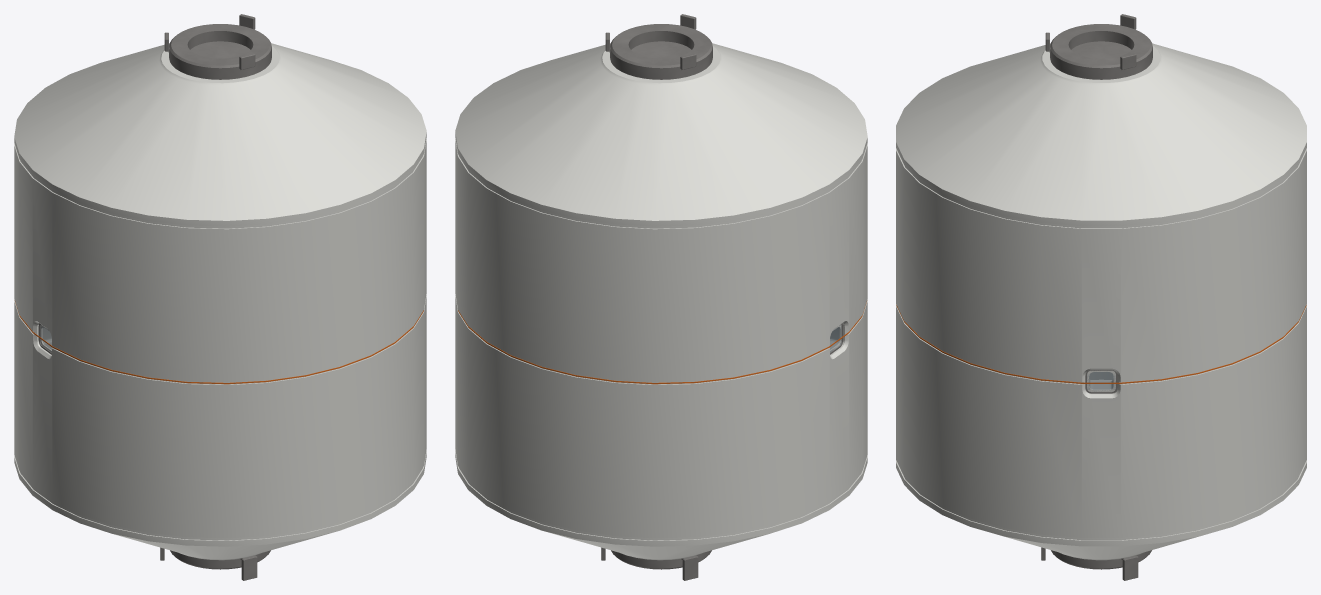
Rendered from ax_station_08_inflatable_hab_deployed.glb.
3 views of the same model, side by side, from view 1: azimuth 30°, elevation 25°; view 2: azimuth 150°, elevation 25°; view 3: azimuth 270°, elevation 25° (orthographic).
Visible parts, largest first — view 1: inflatable_shell, port_top, orange_stripes, hatch_door_2, port_bottom, port_top_petals; view 2: inflatable_shell, port_top, orange_stripes, hatch_door_2, port_bottom, port_top_petals; view 3: inflatable_shell, port_top, orange_stripes, hatch_door_2, port_bottom, port_top_petals.
Part boxes in pixels (left/top/right/bottom): inflatable_shell: left=14, top=43, right=426, bottom=560; port_top: left=169, top=24, right=271, bottom=79; orange_stripes: left=14, top=300, right=423, bottom=384; hatch_door_2: left=190, top=41, right=250, bottom=58; port_bottom: left=170, top=550, right=270, bottom=569; port_top_petals: left=164, top=14, right=255, bottom=69; inflatable_shell: left=455, top=43, right=867, bottom=560; port_top: left=610, top=24, right=712, bottom=79; orange_stripes: left=458, top=300, right=867, bottom=384; hatch_door_2: left=631, top=41, right=691, bottom=58; port_bottom: left=611, top=550, right=711, bottom=569; port_top_petals: left=605, top=14, right=696, bottom=69; inflatable_shell: left=896, top=43, right=1306, bottom=560; port_top: left=1050, top=24, right=1152, bottom=79; orange_stripes: left=896, top=305, right=1306, bottom=383; hatch_door_2: left=1071, top=41, right=1131, bottom=58; port_bottom: left=1051, top=550, right=1151, bottom=569; port_top_petals: left=1045, top=14, right=1136, bottom=69.
Size of the model in its own units: 6.4 by 8.97 by 6.4.
Materials: 5 (2 with a texture image).
